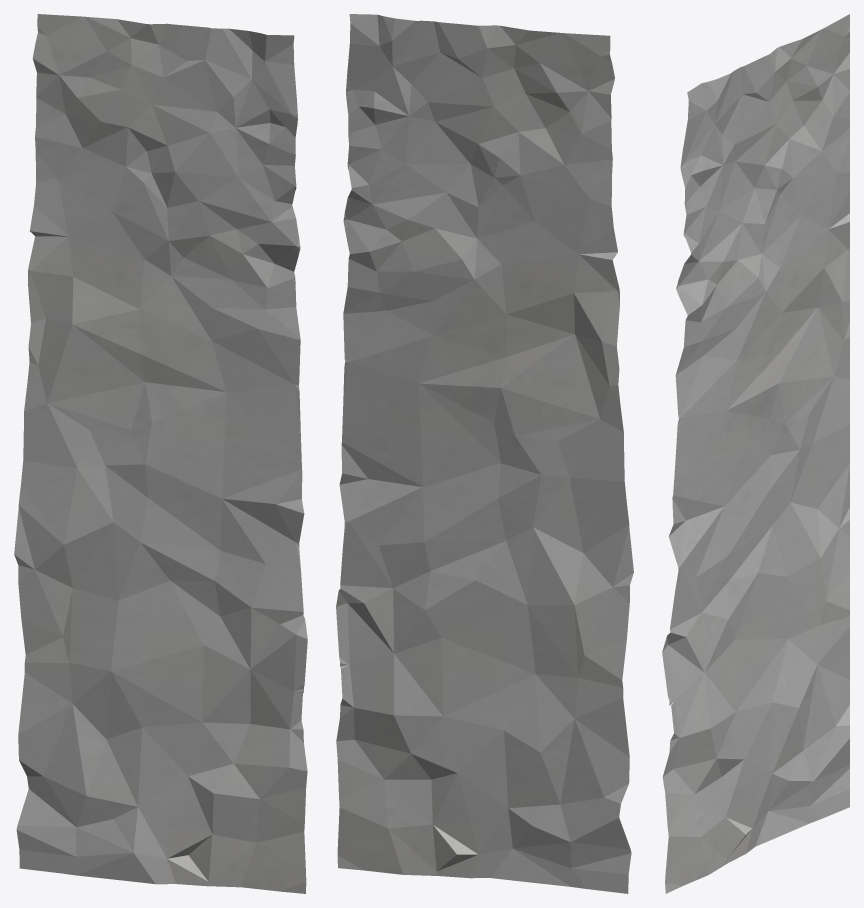
3 views of the same model, side by side, from view 1: azimuth 30°, elevation 25°; view 2: azimuth 210°, elevation 25°; view 3: azimuth 270°, elevation 25° (orthographic). The views are drawn at different scales.
Bounding box in the file's own units: 0.2001 × 0.8373 × 0.1778.
Materials: 1 (1 with a texture image).
